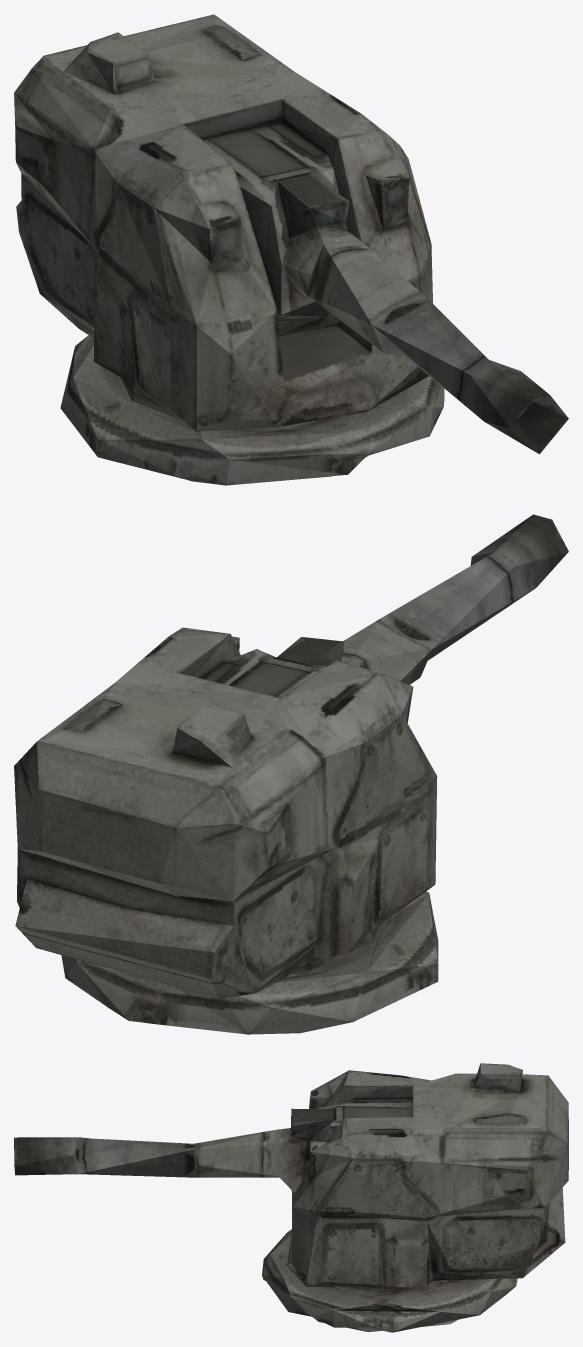
Rendered from struct.ranged_defense.head1.glb.
The picture shows the model from 3 angles, top to bottom: view 1: azimuth 30°, elevation 25°; view 2: azimuth 150°, elevation 25°; view 3: azimuth 270°, elevation 25°; orthographic projection. The views are drawn at different scales.
Parts seen in each view (by area): view 1: body; view 2: body; view 3: body.
Part boxes in pixels (x1=…): body: x1=14, y1=14, x2=568, y2=485; body: x1=14, y1=514, x2=568, y2=1034; body: x1=14, y1=1063, x2=568, y2=1332.
Size of the model in its own units: 0.4562 by 0.4097 by 0.9988.
1 material, 1 textured.
